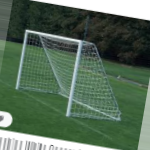goals: (14, 29, 121, 122)
